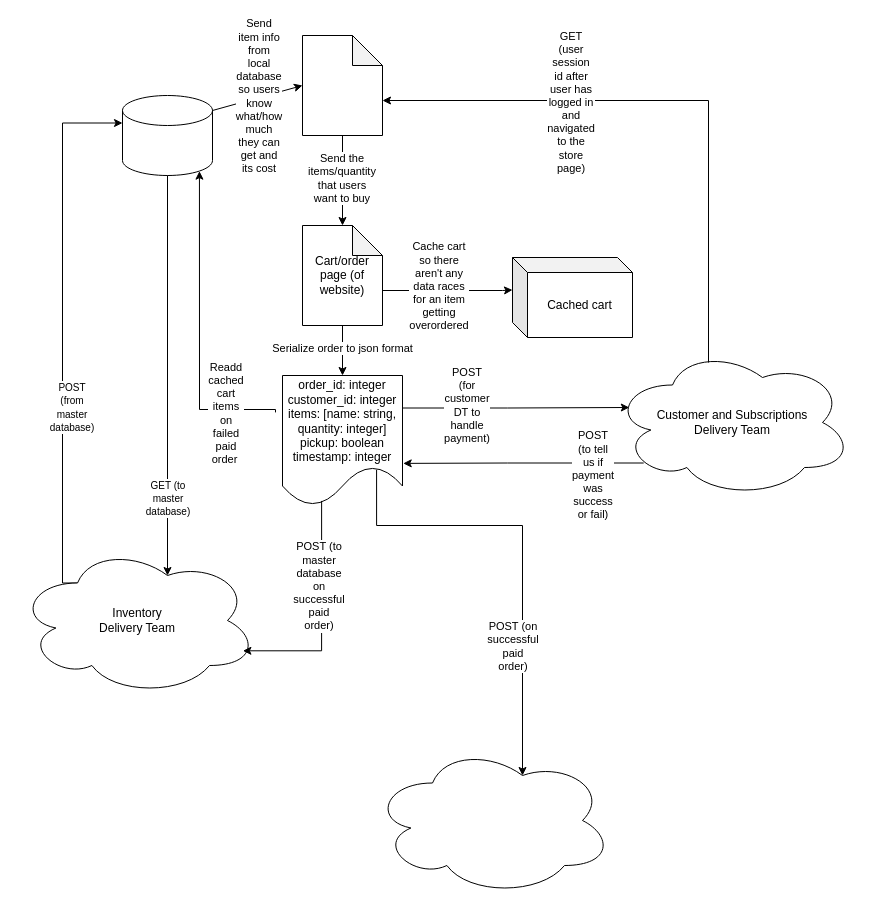
Some shapes in this 870 by 913 pixel diagram are drawn without their labels. The centre of each missing label's shape, as x and y in pixels:
"Delivery Experience Delivery Team" goes at pixel 492 820.
"Local database of Inventory" goes at pixel 167 135.
"Products page (of website)" goes at pixel 342 85.
